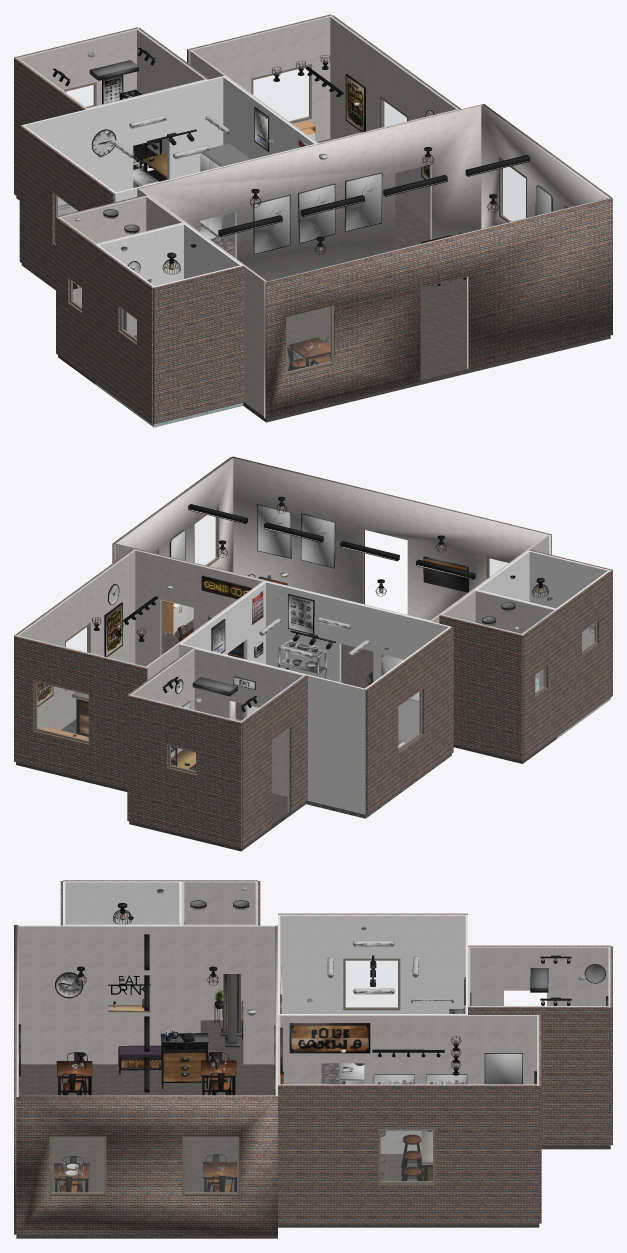
The model's file is scene_named.glb.
3 views of the same model, one above another, from view 1: azimuth 30°, elevation 25°; view 2: azimuth 150°, elevation 25°; view 3: azimuth 270°, elevation 25° (orthographic). The views are drawn at different scales.
Visible parts, largest first — view 1: south_wall_exterior_dining_room/south_wall_exterior_dining_r, north_wall_dining_room/north_wall_dining_room/geometry_0, south_wall_exterior_bathroom/south_wall_exterior_bathroom/ge, north_wall_kitchen/north_wall_kitchen/geometry_0, west_wall_exterior_bathroom/west_wall_exterior_bathroom/geom, east_wall_bar/east_wall_bar/geometry_0, floor_dining_room, west_wall_exterior_kitchen/west_wall_exterior_kitchen/geomet, north_wall_bar/north_wall_bar/geometry_0, east_wall_dining_room/east_wall_dining_room/geometry_0, west_wall_exterior_hallway/west_wall_exterior_hallway/geomet, north_wall_storage_room/north_wall_storage_room/geometry_0 (+24 smaller); view 2: south_wall_dining_room/south_wall_dining_room/geometry_0, north_wall_exterior_storage_room/north_wall_exterior_storage, north_wall_exterior_bar/north_wall_exterior_bar/geometry_0, west_wall_exterior_kitchen/west_wall_exterior_kitchen/geomet, north_wall_exterior_hallway/north_wall_exterior_hallway/geom, south_wall_kitchen/south_wall_kitchen/geometry_0, north_wall_kitchen/north_wall_kitchen/geometry_0, west_wall_exterior_storage_room/west_wall_exterior_storage_r, east_wall_bar/east_wall_bar/geometry_0, west_wall_exterior_bathroom/west_wall_exterior_bathroom/geom, south_wall_bar/south_wall_bar/geometry_0, east_wall_dining_room/east_wall_dining_room/geometry_0 (+27 smaller); view 3: east_wall_exterior_bar/east_wall_exterior_bar/geometry_0, east_wall_exterior_dining_room/east_wall_exterior_dining_roo, west_wall_dining_room/west_wall_dining_room/geometry_0, west_wall_kitchen/west_wall_kitchen/geometry_0, west_wall_bar/west_wall_bar/geometry_0, floor_dining_room, east_wall_exterior_storage_room/east_wall_exterior_storage_r, west_wall_storage_room/west_wall_storage_room/geometry_0, west_wall_bathroom/west_wall_bathroom/geometry_0, west_wall_hallway/west_wall_hallway/geometry_0, window_7_dining_room/window_7_dining_room/glass, window_8_dining_room/window_8_dining_room/glass (+27 smaller).
Part boxes in pixels (x1,y1,x2,y2): south_wall_exterior_dining_room/south_wall_exterior_dining_r: (265,198,612,419); north_wall_dining_room/north_wall_dining_room/geometry_0: (138,104,482,280); south_wall_exterior_bathroom/south_wall_exterior_bathroom/ge: (153,266,244,424); north_wall_kitchen/north_wall_kitchen/geometry_0: (22,76,224,210); west_wall_exterior_bathroom/west_wall_exterior_bathroom/geom: (93,245,153,423); east_wall_bar/east_wall_bar/geometry_0: (330,16,458,224); floor_dining_room: (243,277,610,422); west_wall_exterior_kitchen/west_wall_exterior_kitchen/geomet: (19,125,114,287); north_wall_bar/north_wall_bar/geometry_0: (188,15,332,141); east_wall_dining_room/east_wall_dining_room/geometry_0: (481,105,608,228); west_wall_exterior_hallway/west_wall_exterior_hallway/geomet: (56,217,95,380); north_wall_storage_room/north_wall_storage_room/geometry_0: (15,28,139,105); south_wall_dining_room/south_wall_dining_room/geometry_0: (231,457,550,620); north_wall_exterior_storage_room/north_wall_exterior_storage: (127,695,242,848); north_wall_exterior_bar/north_wall_exterior_bar/geometry_0: (14,636,147,788); west_wall_exterior_kitchen/west_wall_exterior_kitchen/geomet: (365,627,453,815); north_wall_exterior_hallway/north_wall_exterior_hallway/geom: (439,615,523,760); south_wall_kitchen/south_wall_kitchen/geometry_0: (264,581,451,741); north_wall_kitchen/north_wall_kitchen/geometry_0: (179,643,366,814); west_wall_exterior_storage_room/west_wall_exterior_storage_r: (241,675,307,847); east_wall_bar/east_wall_bar/geometry_0: (17,550,135,729); west_wall_exterior_bathroom/west_wall_exterior_bathroom/geom: (557,570,612,734); south_wall_bar/south_wall_bar/geometry_0: (134,549,264,666); east_wall_dining_room/east_wall_dining_room/geometry_0: (114,458,233,635); east_wall_exterior_bar/east_wall_exterior_bar/geometry_0: (278,1085,539,1224); east_wall_exterior_dining_room/east_wall_exterior_dining_roo: (16,1096,277,1235); west_wall_dining_room/west_wall_dining_room/geometry_0: (18,925,275,1064); west_wall_kitchen/west_wall_kitchen/geometry_0: (280,914,465,1013); west_wall_bar/west_wall_bar/geometry_0: (280,1015,536,1153); floor_dining_room: (16,1063,277,1238); east_wall_exterior_storage_room/east_wall_exterior_storage_r: (468,1007,610,1145); west_wall_storage_room/west_wall_storage_room/geometry_0: (470,946,608,1005); west_wall_bathroom/west_wall_bathroom/geometry_0: (63,881,181,924); west_wall_hallway/west_wall_hallway/geometry_0: (182,881,255,1020); window_7_dining_room/window_7_dining_room/glass: (52,1137,103,1192); window_8_dining_room/window_8_dining_room/glass: (185,1137,236,1192).
Bounding box in the file's own units: 10.8 × 3.3 × 12.6.
Materials: 185 (170 with a texture image).
